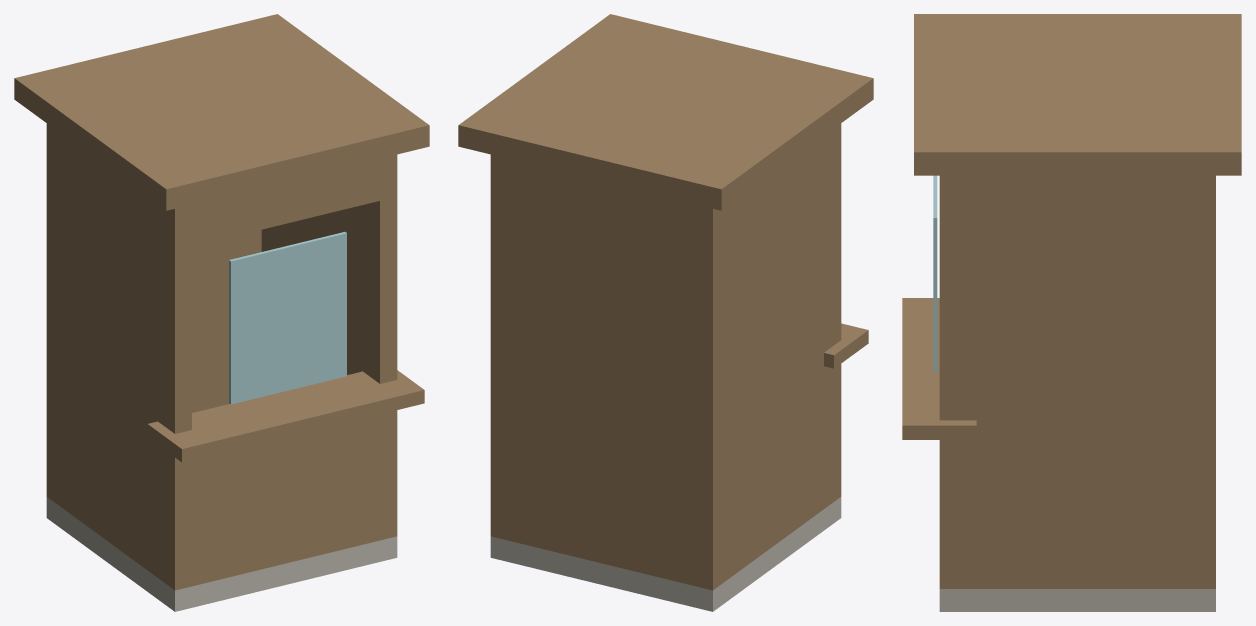
The model's file is zoo-and-safari-park-builder-ticket-booth-884efeee__21498.glb.
3 renders of one model, left to right at view 1: azimuth 30°, elevation 25°; view 2: azimuth 150°, elevation 25°; view 3: azimuth 270°, elevation 25°, orthographic. The views are drawn at different scales.
Visible parts, largest first — view 1: ticket-booth; view 2: ticket-booth; view 3: ticket-booth.
Boxes of the visible parts, x1,y1,x2,y2 form: ticket-booth: (14, 14, 429, 611); ticket-booth: (458, 14, 873, 611); ticket-booth: (902, 14, 1241, 611).
Size of the model in its own units: 1.54 by 2.44 by 1.59.
